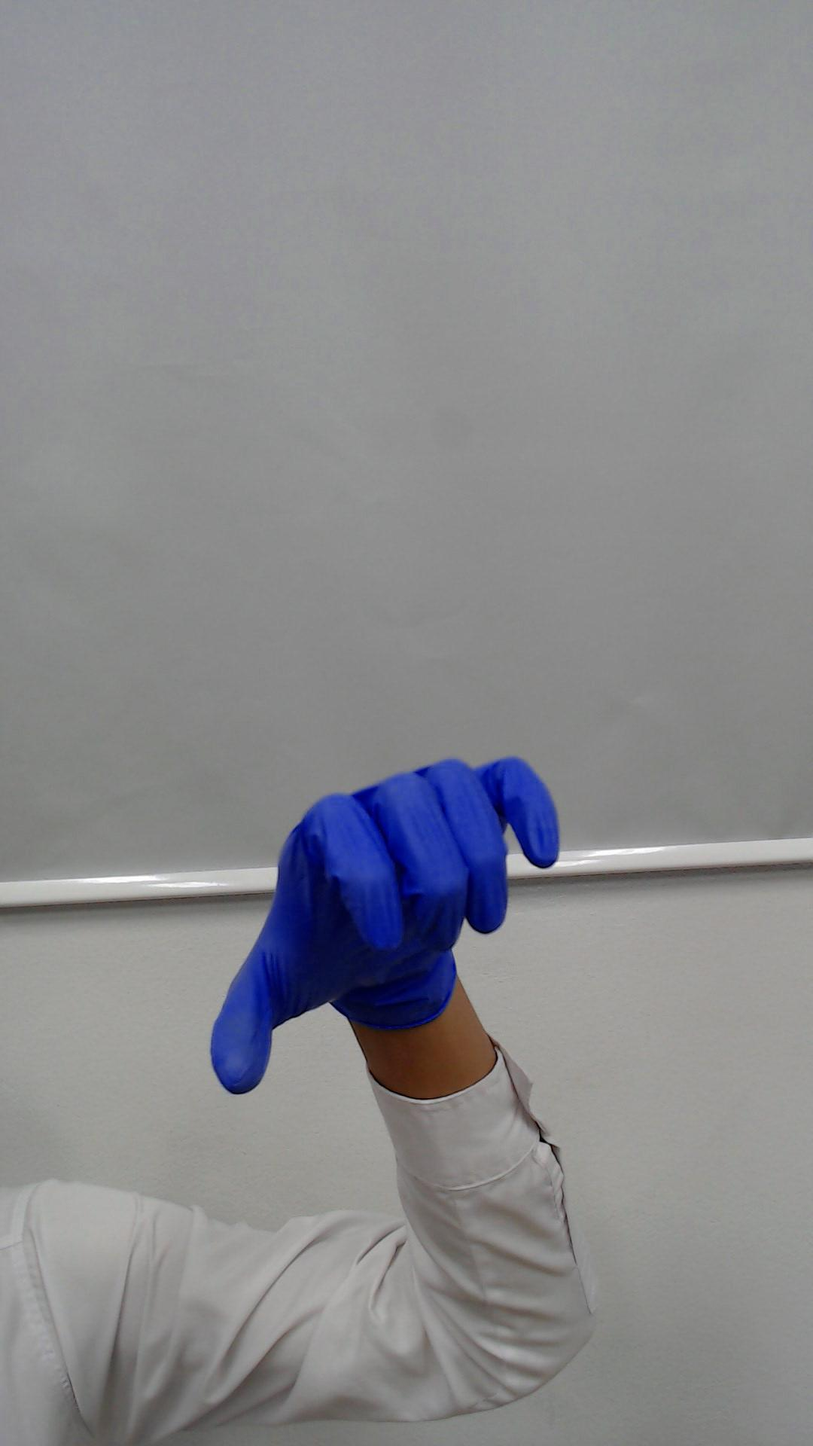gloves: (136, 661, 585, 1123)
